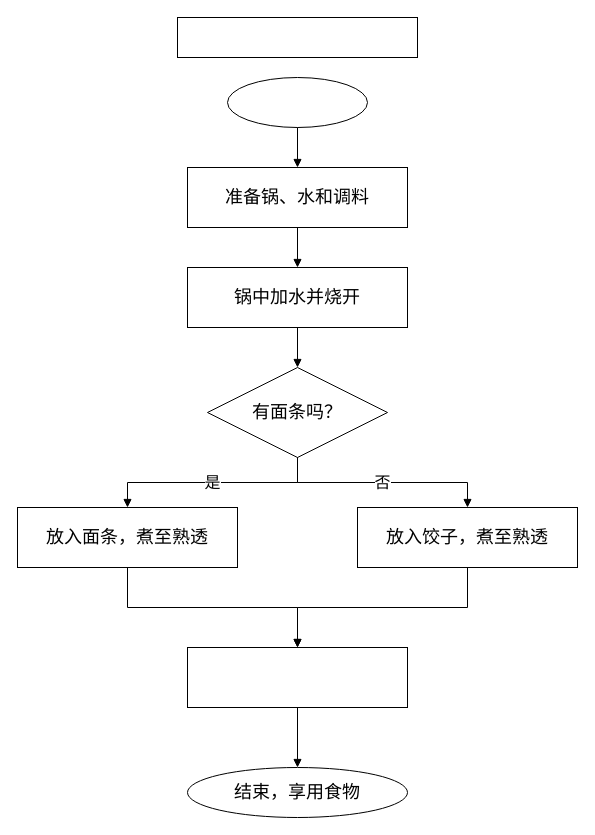
This 595x835 diagram has some shape labels left out. Each missing label, with the centre of its shape:
"关火，盛出并调味" goes at point 297,677.
"开始" goes at point 297,102.
"煮面条算法" goes at point 297,37.
